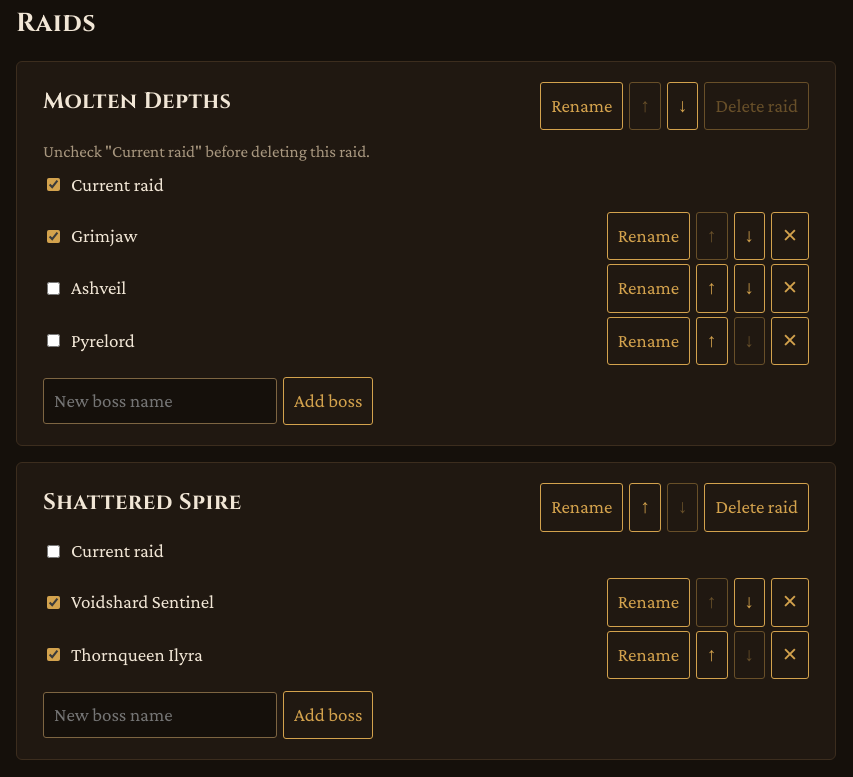
Scenario: OfficerRaidProgress › should not send a delete request when an officer clicks delete on a tier without confirming
(page scrolled)
given an officer who clicked delete on a retired tier
What coordinates should you click on to do the following:
click the button with aria-label "Delete Shattered Spire"
I would click on:
 (757, 508)
Its box is x1=704 y1=484 x2=809 y2=532.
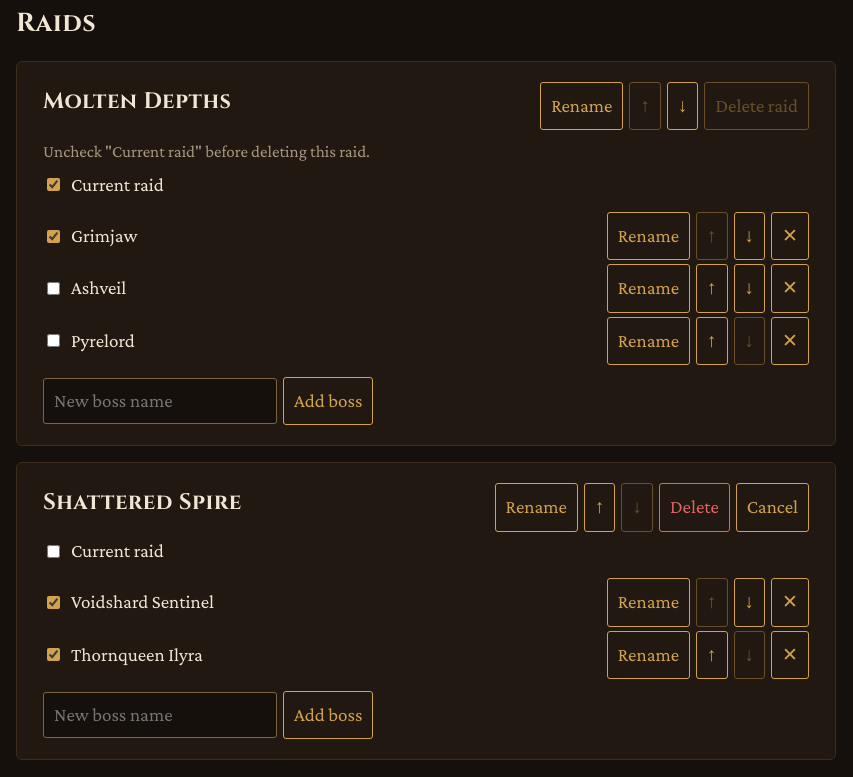
when I cancel
What coordinates should you click on to do the following:
click the button with aria-label "Cancel deleting Shattered Spire"
I would click on:
 (772, 508)
Its box is x1=736 y1=484 x2=809 y2=532.
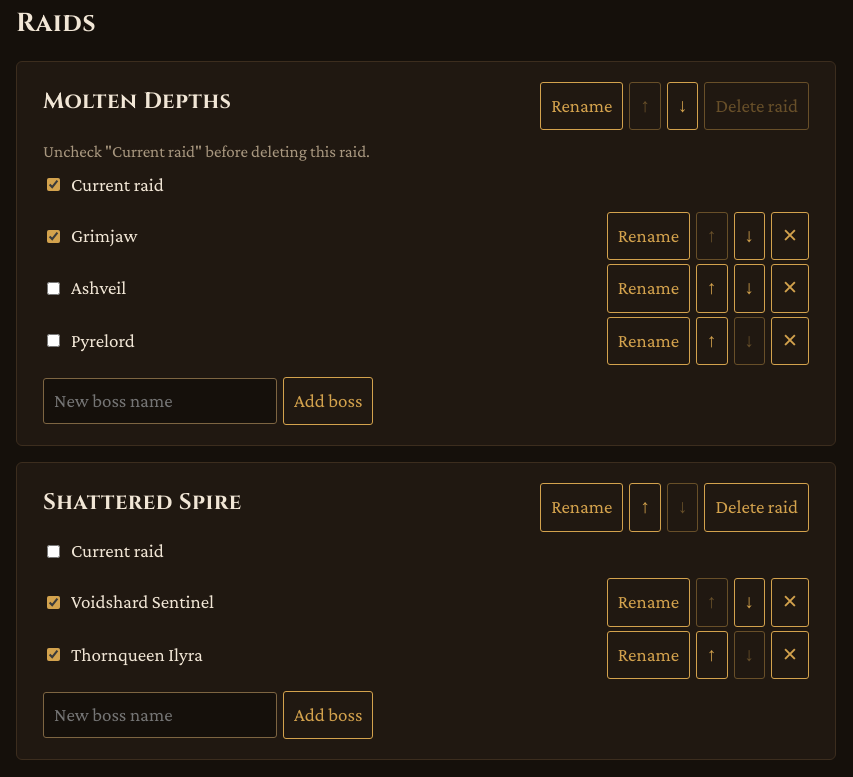
Expected: the button with aria-label "Delete Shattered Spire" is shown, x1=704 y1=484 x2=809 y2=532
